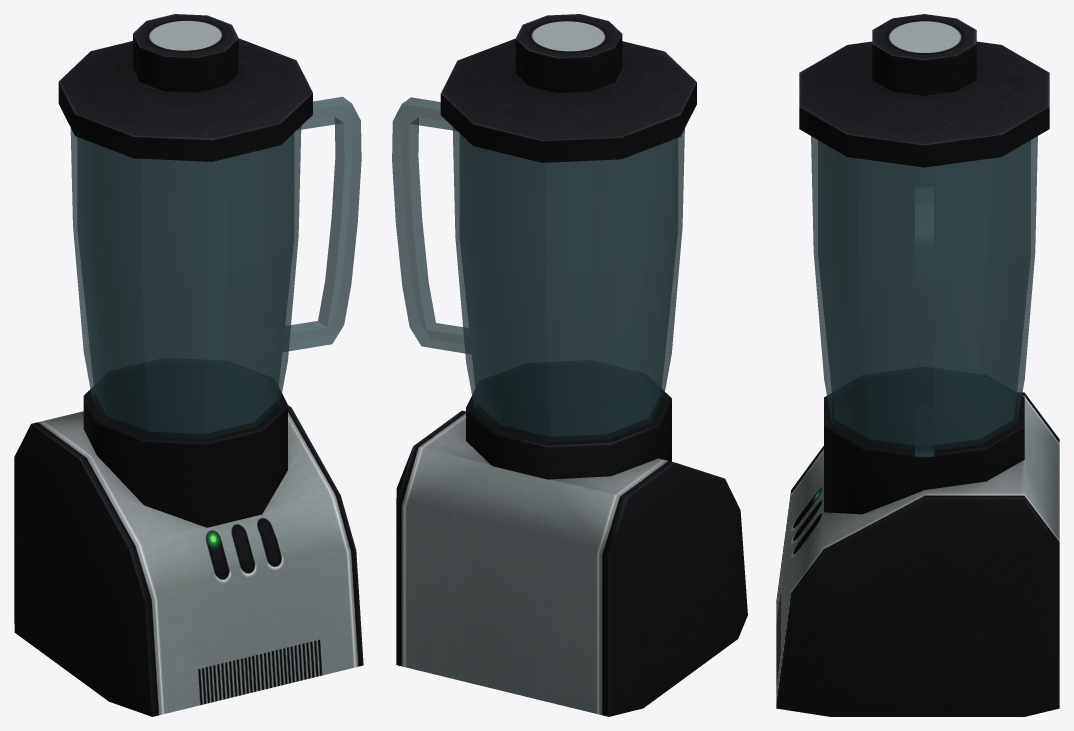
File: Sun_0090_Blender.fbx
3 renders of one model, left to right at view 1: azimuth 30°, elevation 25°; view 2: azimuth 150°, elevation 25°; view 3: azimuth 270°, elevation 25°, orthographic. The views are drawn at different scales.
Parts seen in each view (by area): view 1: Sun_0090_Blender; view 2: Sun_0090_Blender; view 3: Sun_0090_Blender.
Part boxes in pixels (x1,y1,x2,y2): Sun_0090_Blender: (14,14,363,716); Sun_0090_Blender: (392,14,747,716); Sun_0090_Blender: (776,14,1059,716).
Bounding box in the file's own units: 21.69 × 42.52 × 17.67.
